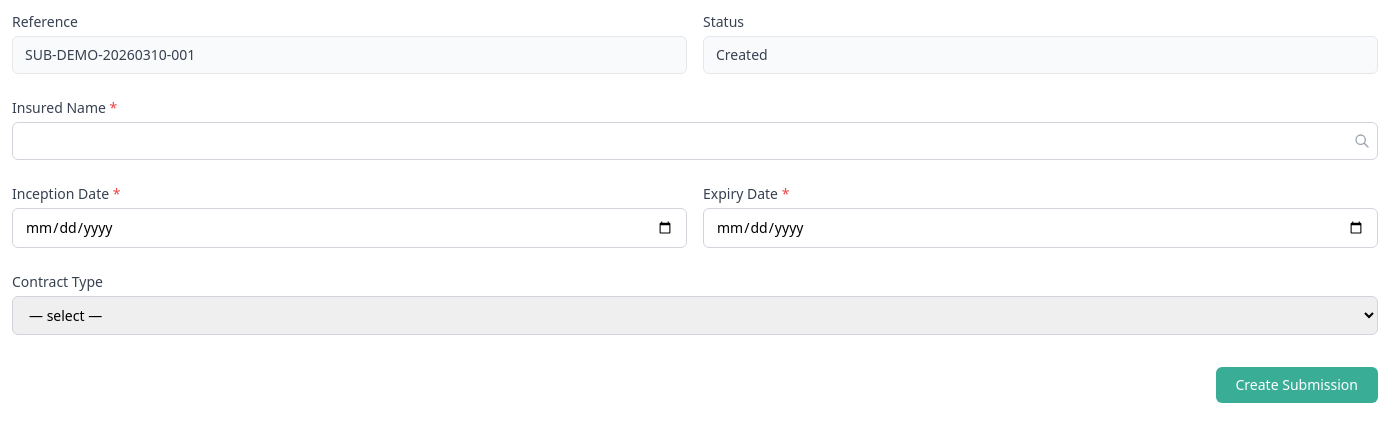
it: T-FORM-submissions-R03: validation prevents submit on missing required fields › shows expiry date error when expiry is empty
The width and height of the screenshot is (1390, 444).
Type "Acme Corp" into the field labelled "Insured Name *" at x=695, y=141, box [12, 122, 1378, 160]
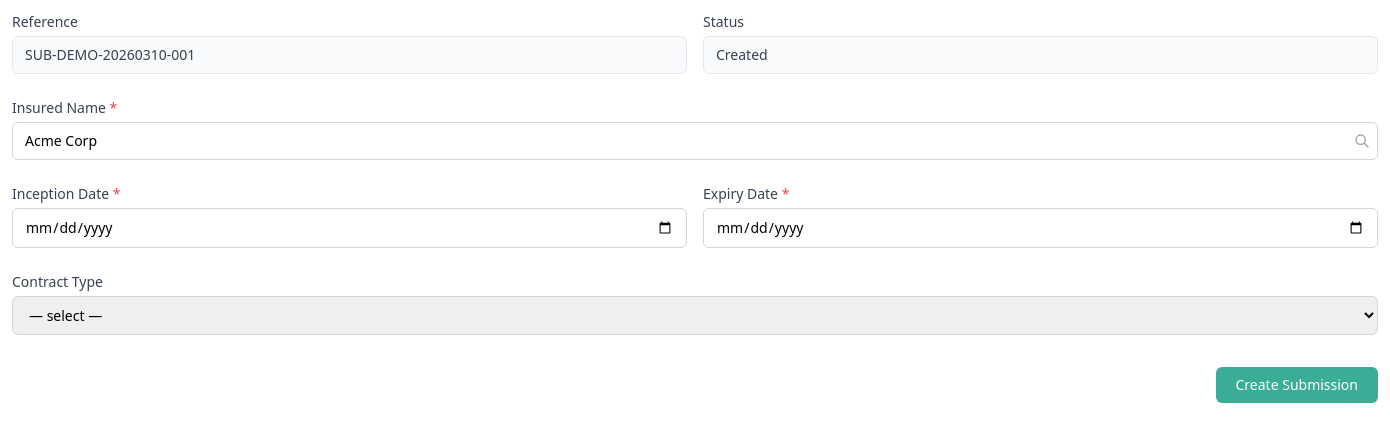
Type "2026-03-10" into the date field labelled "Inception Date *" at x=350, y=228, box [12, 208, 687, 248]
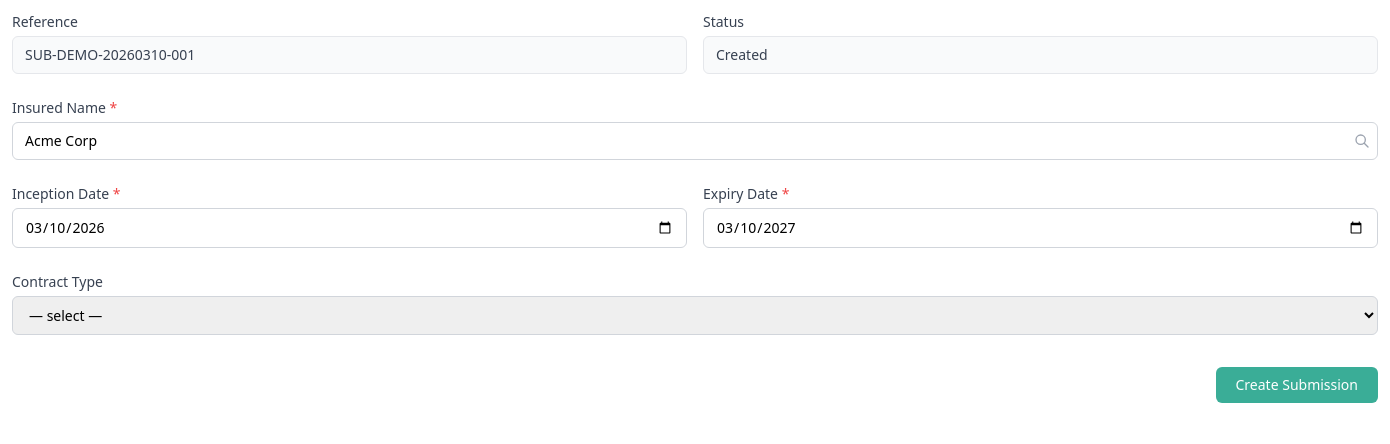
Note: Manually clear expiry to simulate user deleting the auto-fill
Clear the date field labelled "Expiry Date *" at x=1040, y=228, box [703, 208, 1378, 248]
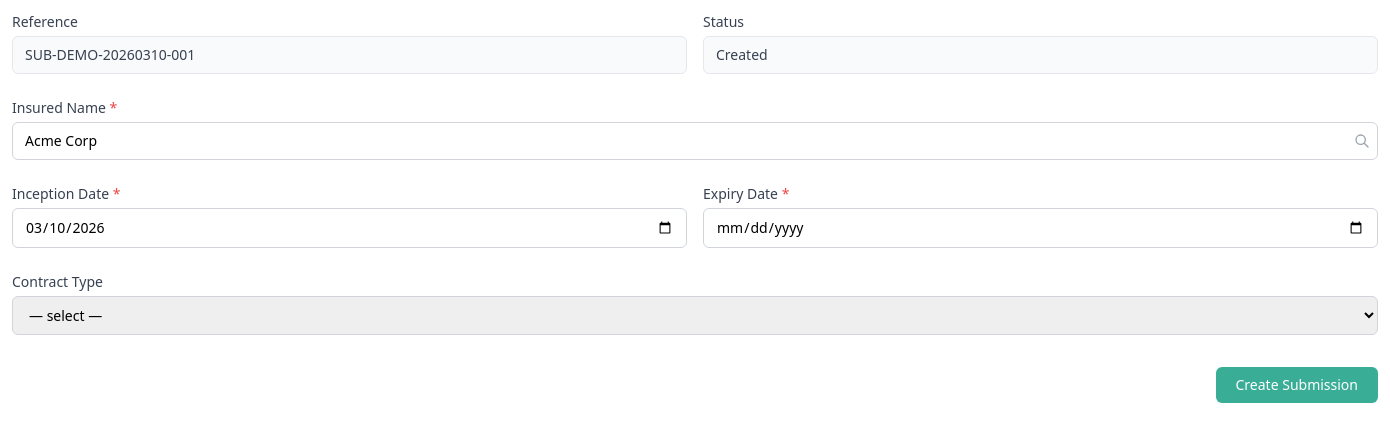
Click the button "Create Submission" at x=1297, y=385, box [1216, 367, 1378, 403]
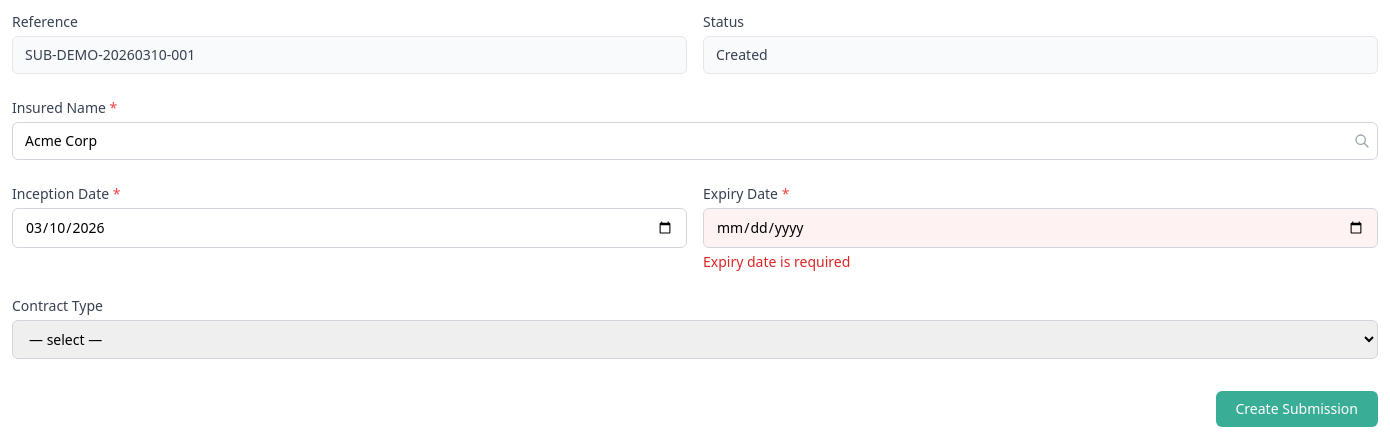
expect the text "Expiry date is required" is shown: met, box [703, 252, 850, 271]
